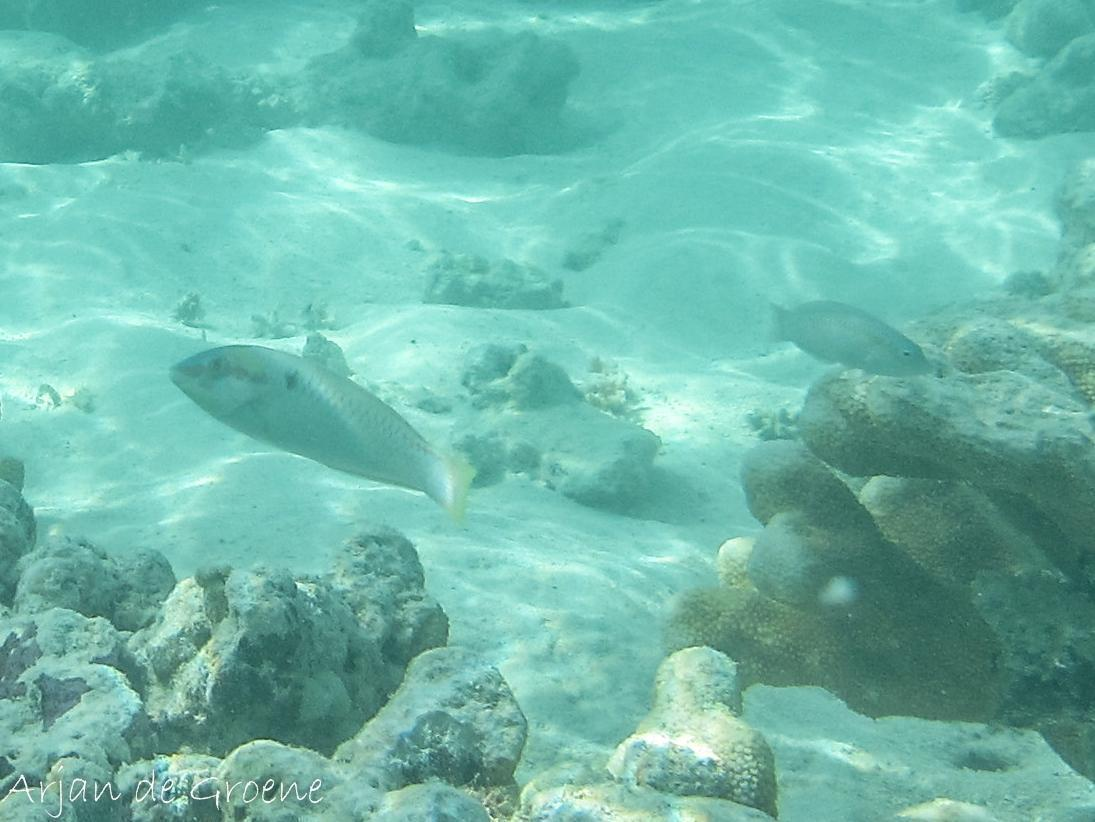Fish: (148, 312, 488, 542), (740, 278, 950, 406)
